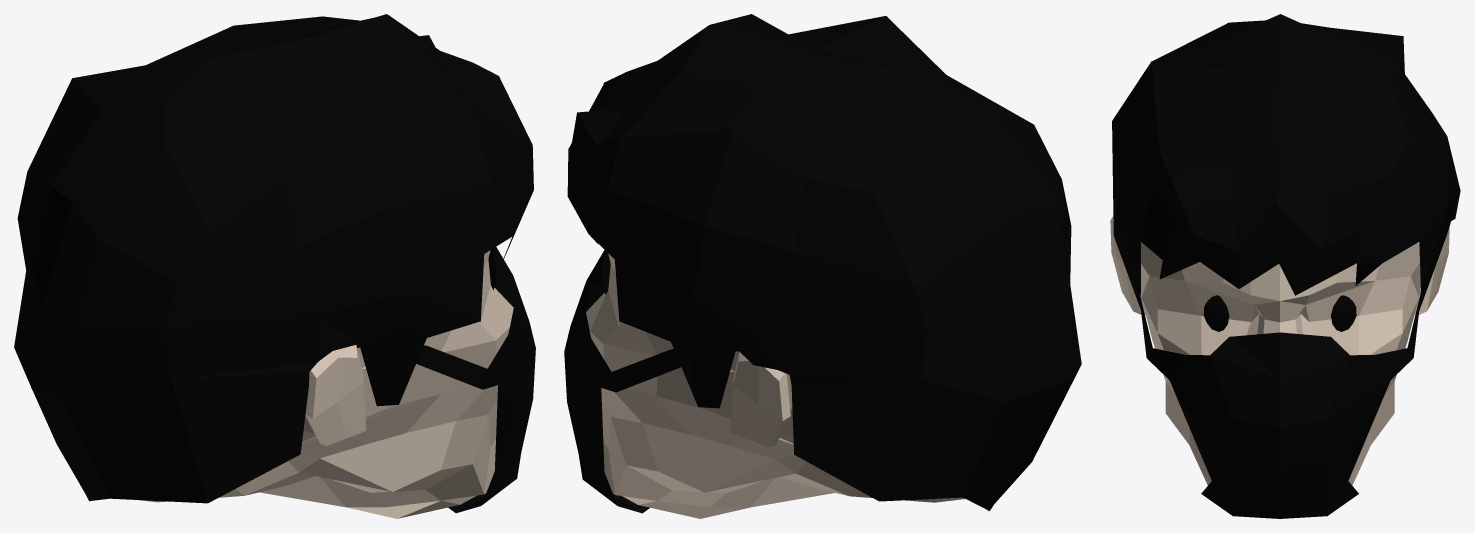
File: HeadAnkith.fbx
The picture shows the model from 3 angles, left to right: view 1: azimuth 30°, elevation 25°; view 2: azimuth 150°, elevation 25°; view 3: azimuth 270°, elevation 25°; orthographic projection. The views are drawn at different scales.
Parts seen in each view (by area): view 1: Hair, Head, Mask; view 2: Hair, Head, Mask; view 3: Hair, Mask, Head, Eyes.
Boxes of the visible parts, x1=… form: Hair: x1=14, y1=14, x2=533, y2=503; Head: x1=139, y1=250, x2=513, y2=518; Mask: x1=356, y1=247, x2=535, y2=513; Hair: x1=567, y1=14, x2=1081, y2=511; Head: x1=586, y1=253, x2=965, y2=518; Mask: x1=564, y1=250, x2=738, y2=513; Hair: x1=1112, y1=14, x2=1460, y2=310; Mask: x1=1138, y1=285, x2=1422, y2=518; Head: x1=1110, y1=216, x2=1449, y2=485; Eyes: x1=1203, y1=295, x2=1356, y2=331.
Size of the model in its own units: 78.41 by 72.32 by 56.4.
